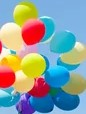Balloon: (1, 21, 23, 50), (50, 30, 75, 54), (21, 20, 44, 45), (21, 53, 45, 76), (54, 90, 80, 111), (45, 65, 69, 87), (14, 2, 37, 22), (63, 73, 86, 93), (30, 96, 56, 113), (28, 79, 49, 97), (1, 87, 19, 107), (1, 67, 15, 87)
